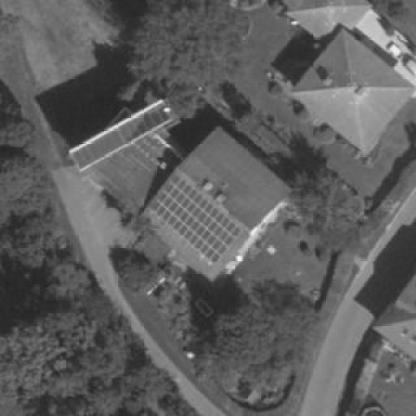solar-pv-panel: (150, 173, 244, 263), (71, 101, 173, 171)
